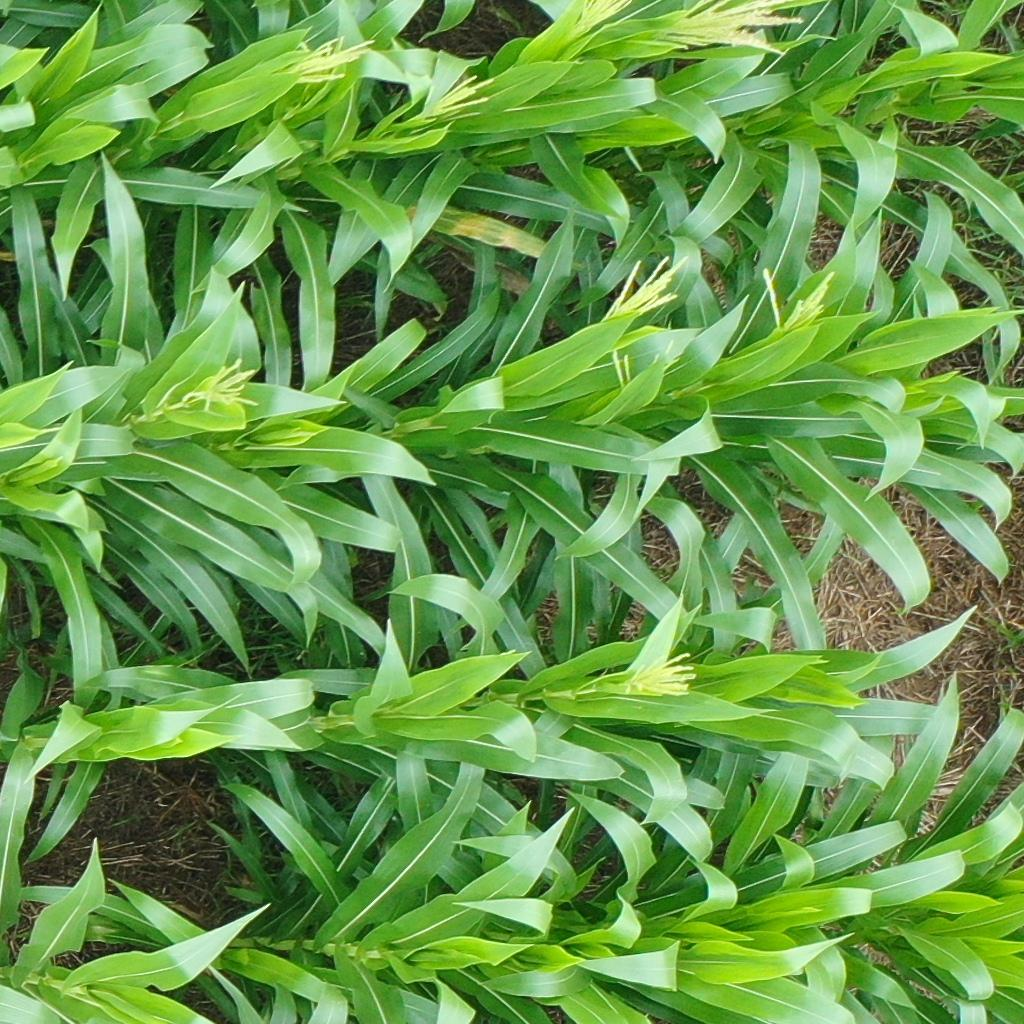Tassel: (664, 1, 817, 55), (603, 250, 690, 325), (184, 356, 271, 425), (759, 263, 839, 337), (280, 35, 375, 88), (613, 649, 698, 701), (607, 335, 680, 390), (415, 72, 498, 120), (573, 1, 637, 33)
